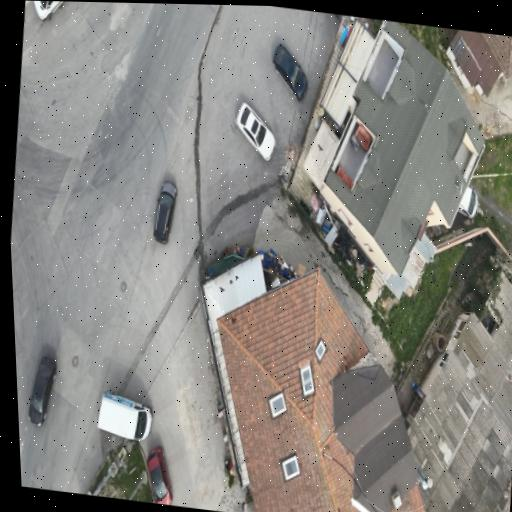car: (98, 392, 152, 440), (235, 102, 274, 159), (272, 43, 307, 99), (28, 357, 55, 425), (146, 447, 172, 504), (153, 181, 176, 243), (458, 186, 477, 216), (34, 1, 65, 19)
